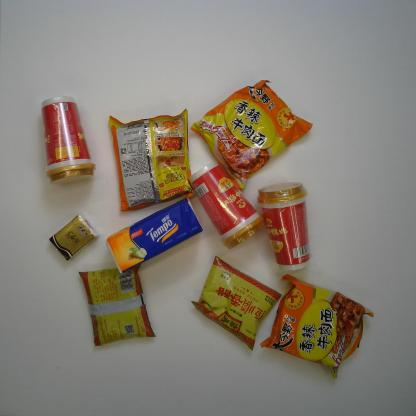Instant Drink: (187, 160, 266, 250), (40, 95, 96, 186), (256, 181, 312, 272)
Instant Noodles: (190, 78, 314, 191), (259, 273, 375, 380), (107, 108, 194, 212)
Seasoner: (190, 255, 283, 352), (78, 262, 156, 348)
Tissue: (105, 197, 204, 274), (48, 213, 100, 262)
